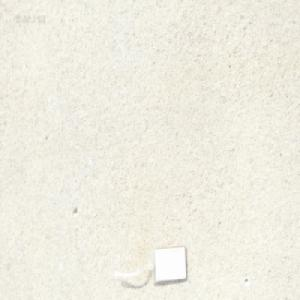LuggageTag: (108, 242, 184, 285)
